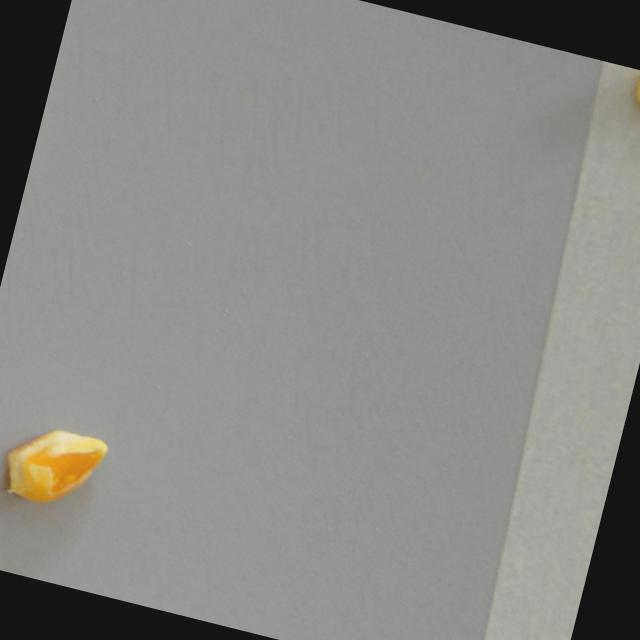pelicula: (0, 407, 114, 524), (17, 76, 60, 213)
